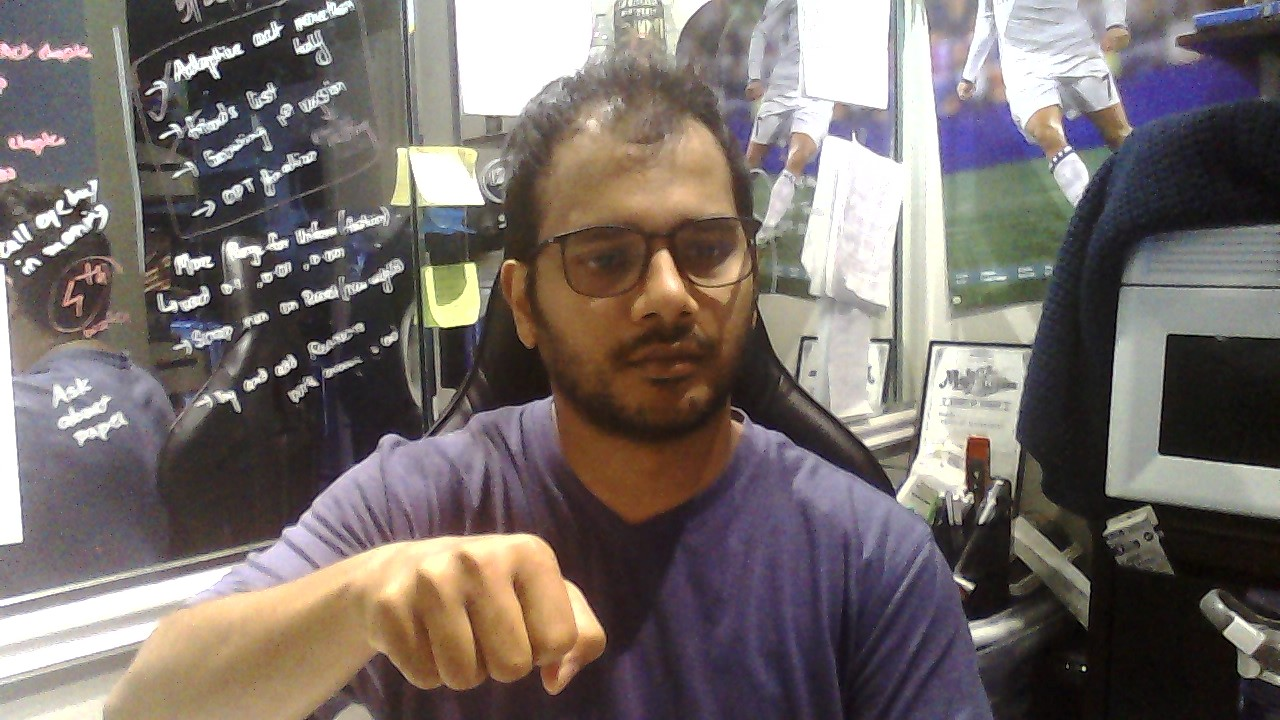Yes: (367, 533, 606, 695)
